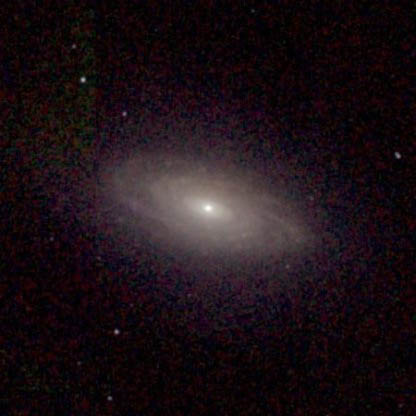NGC 3521: (37, 74, 357, 309)
